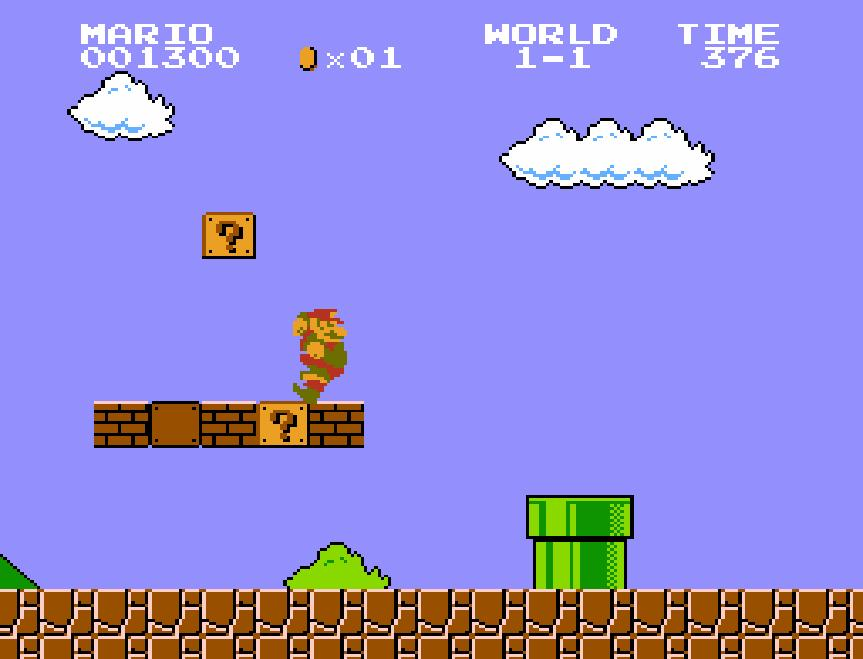big_mario: (291, 307, 349, 405)
